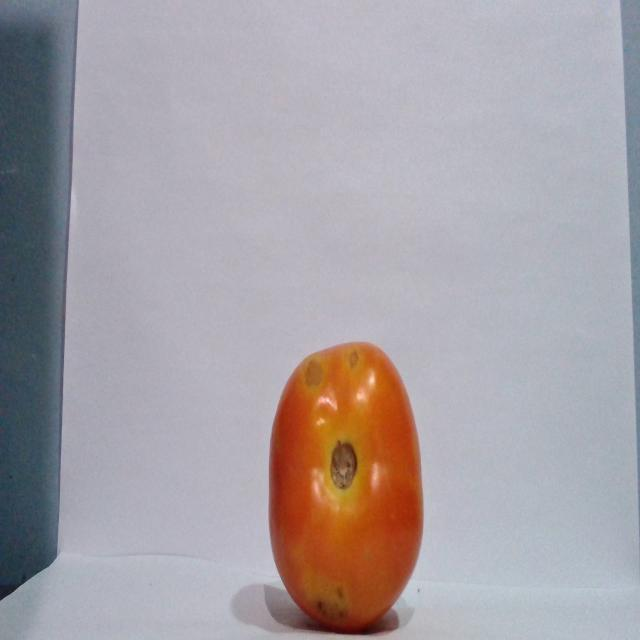Red: (266, 340, 424, 631)
